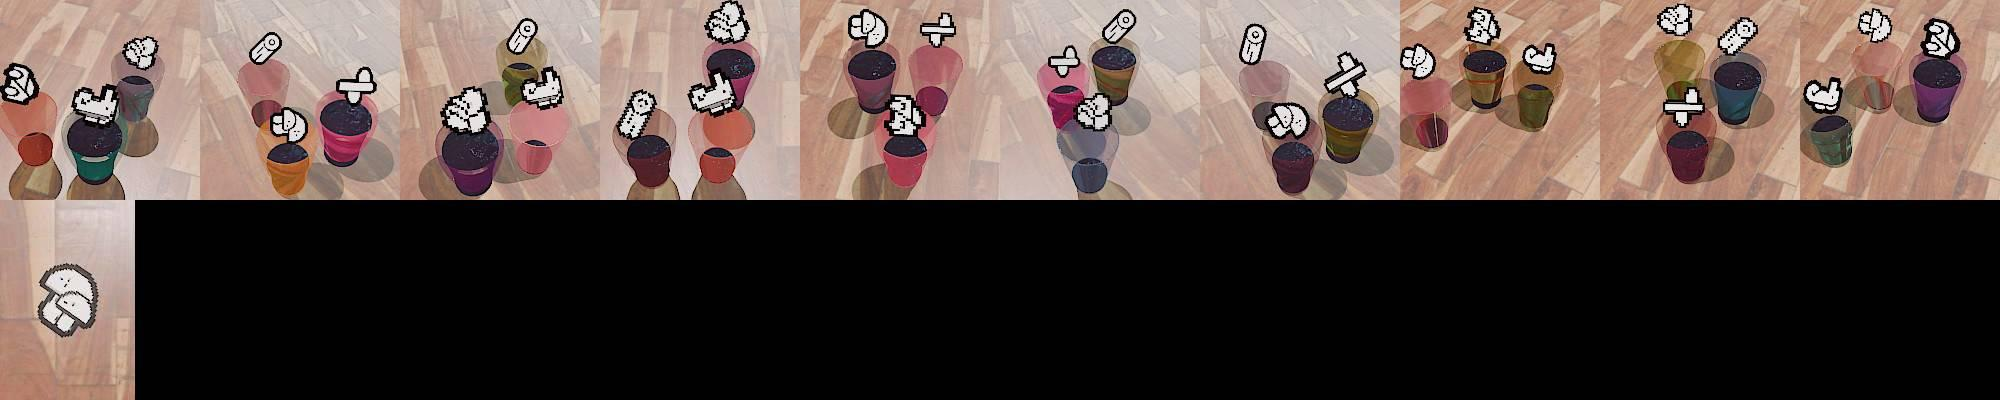icon: (36, 261, 99, 338), (441, 84, 491, 132), (686, 70, 737, 116), (519, 64, 565, 110), (1324, 50, 1367, 98), (616, 89, 657, 140), (883, 93, 929, 138), (704, 0, 750, 45), (71, 83, 120, 124), (1662, 84, 1707, 126), (1265, 99, 1311, 139), (268, 103, 310, 144), (0, 62, 41, 104), (334, 65, 378, 104), (1717, 15, 1758, 56), (848, 8, 888, 48), (1921, 19, 1960, 59), (1805, 75, 1844, 113), (1463, 6, 1501, 46), (920, 11, 958, 50), (1074, 92, 1111, 131), (120, 36, 158, 71), (1857, 8, 1893, 45), (1102, 8, 1136, 46), (1657, 3, 1695, 37), (505, 17, 540, 55), (1402, 42, 1435, 82), (1520, 42, 1557, 75), (1046, 45, 1080, 79), (247, 32, 282, 65), (1239, 23, 1265, 65)
